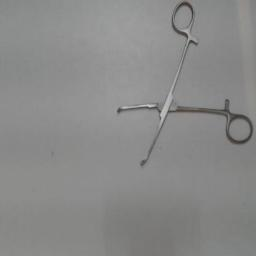Allis Tissue Forceps: (112, 0, 254, 172)
